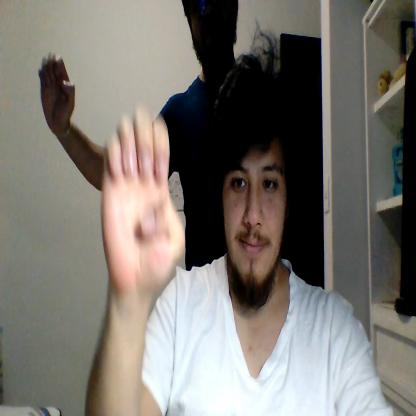E: (101, 108, 184, 291), (38, 53, 76, 133)
